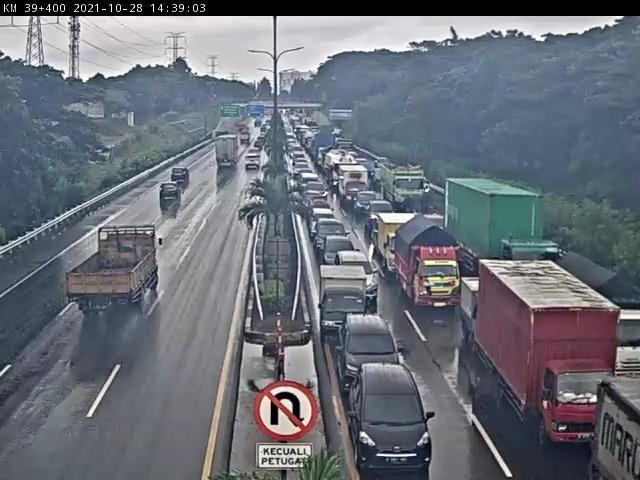car: (346, 362, 460, 478), (335, 309, 416, 394), (338, 248, 385, 303), (315, 218, 352, 258), (321, 236, 361, 271), (367, 200, 400, 239), (355, 188, 381, 220), (156, 182, 191, 205), (166, 163, 194, 187), (245, 152, 266, 175)
truck: (467, 252, 620, 451), (65, 215, 190, 327), (441, 176, 570, 280), (394, 219, 469, 317), (581, 376, 640, 480), (315, 257, 372, 350), (382, 160, 434, 216), (379, 211, 420, 277), (211, 135, 245, 172)
